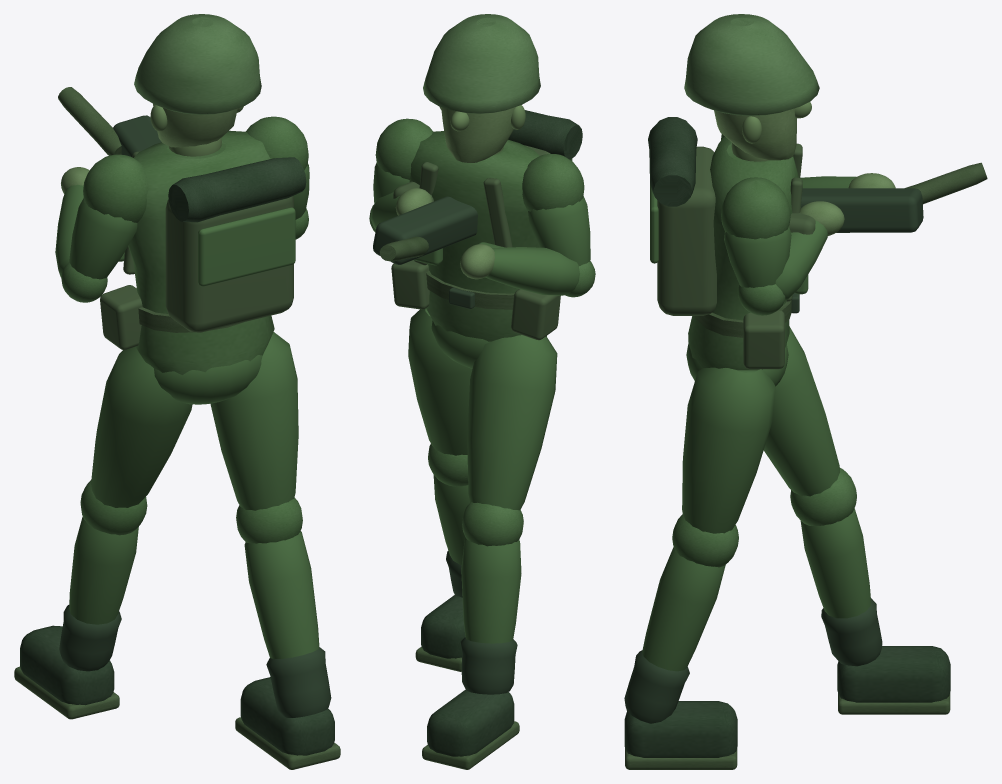
File: pieces_green.glb
3 renders of one model, left to right at view 1: azimuth 30°, elevation 25°; view 2: azimuth 150°, elevation 25°; view 3: azimuth 270°, elevation 25°, orthographic. The views are drawn at different scales.
Visible parts, largest first — view 1: Torso and gear, Right leg, Left leg, Helmet and head, Left arm, Right arm; view 2: Left leg, Torso and gear, Helmet and head, Right leg, Left arm, Right arm; view 3: Right leg, Torso and gear, Left leg, Helmet and head, Right arm, Left arm.
Part boxes in pixels (left/top/right/bottom): Torso and gear: left=58, top=87, right=306, bottom=404; Right leg: left=210, top=332, right=340, bottom=769; Left leg: left=14, top=346, right=192, bottom=719; Helmet and head: left=134, top=14, right=261, bottom=156; Left arm: left=55, top=154, right=148, bottom=302; Right arm: left=246, top=116, right=309, bottom=239; Left leg: left=422, top=335, right=557, bottom=769; Torso and gear: left=373, top=110, right=582, bottom=368; Helmet and head: left=423, top=14, right=540, bottom=162; Right leg: left=408, top=308, right=472, bottom=671; Left arm: left=460, top=153, right=595, bottom=297; Right arm: left=369, top=118, right=433, bottom=231; Right leg: left=624, top=367, right=775, bottom=769; Torso and gear: left=648, top=117, right=987, bottom=386; Left leg: left=763, top=326, right=950, bottom=714; Helmet and head: left=684, top=14, right=819, bottom=161; Right arm: left=721, top=177, right=844, bottom=315; Left arm: left=721, top=134, right=895, bottom=188.
Bounding box in the file's own units: 0.629 × 1.79 × 0.8304.
Materials: 5 (5 with a texture image).
